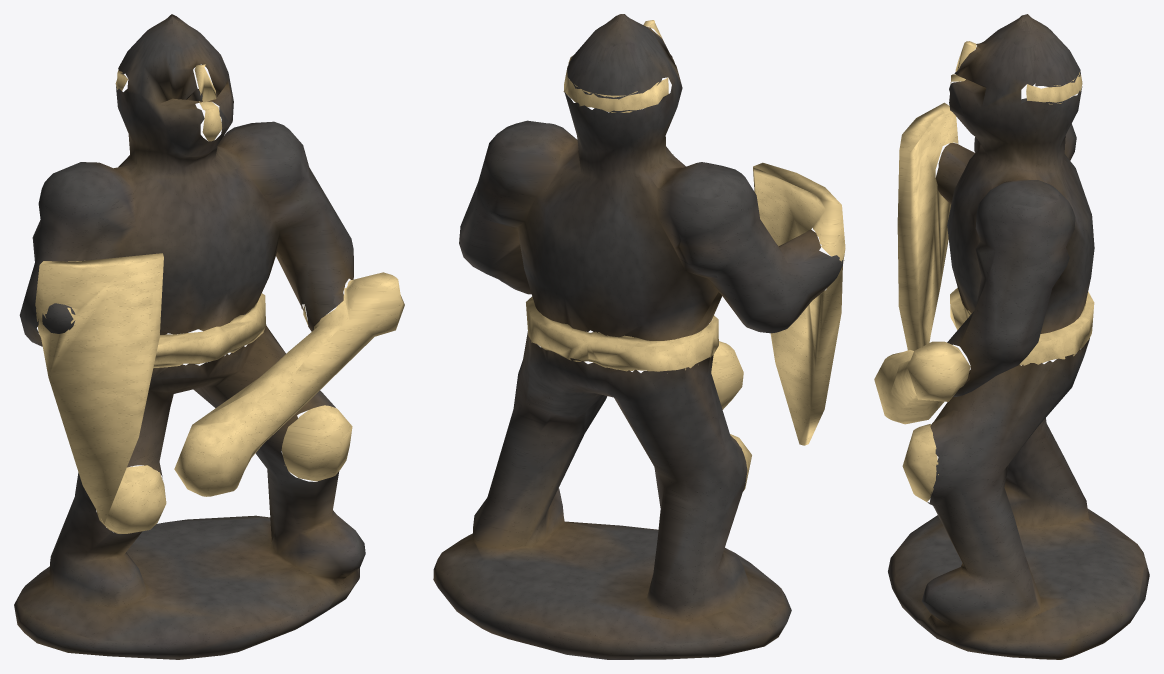
File: Argent_Reliquary_Black_Pawn.glb
3 renders of one model, left to right at view 1: azimuth 30°, elevation 25°; view 2: azimuth 150°, elevation 25°; view 3: azimuth 270°, elevation 25°, orthographic. The views are drawn at different scales.
Parts seen in each view (by area): view 1: Argent Reliquary – Black Pawn; view 2: Argent Reliquary – Black Pawn; view 3: Argent Reliquary – Black Pawn.
Boxes of the visible parts, x1=… form: Argent Reliquary – Black Pawn: x1=14, y1=14, x2=404, y2=659; Argent Reliquary – Black Pawn: x1=433, y1=14, x2=845, y2=659; Argent Reliquary – Black Pawn: x1=874, y1=14, x2=1149, y2=659.
Bounding box in the file's own units: 0.0356 × 0.0562 × 0.0243.
2 materials, 2 textured.
